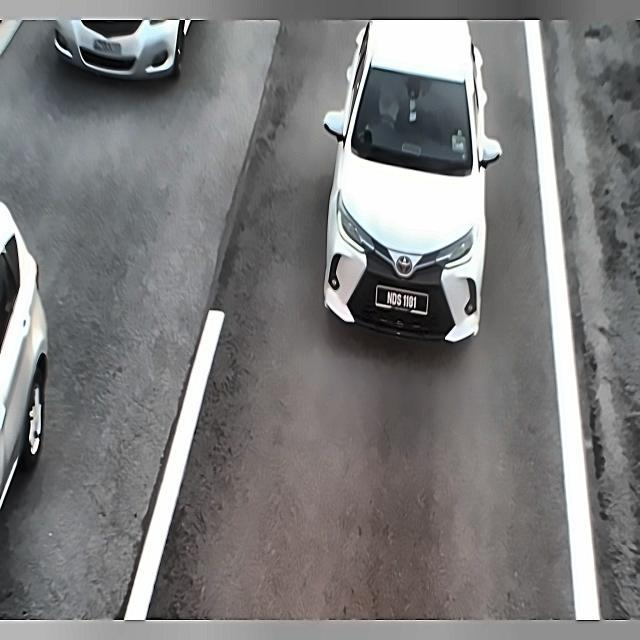car: (367, 278, 432, 327), (82, 31, 128, 65)
